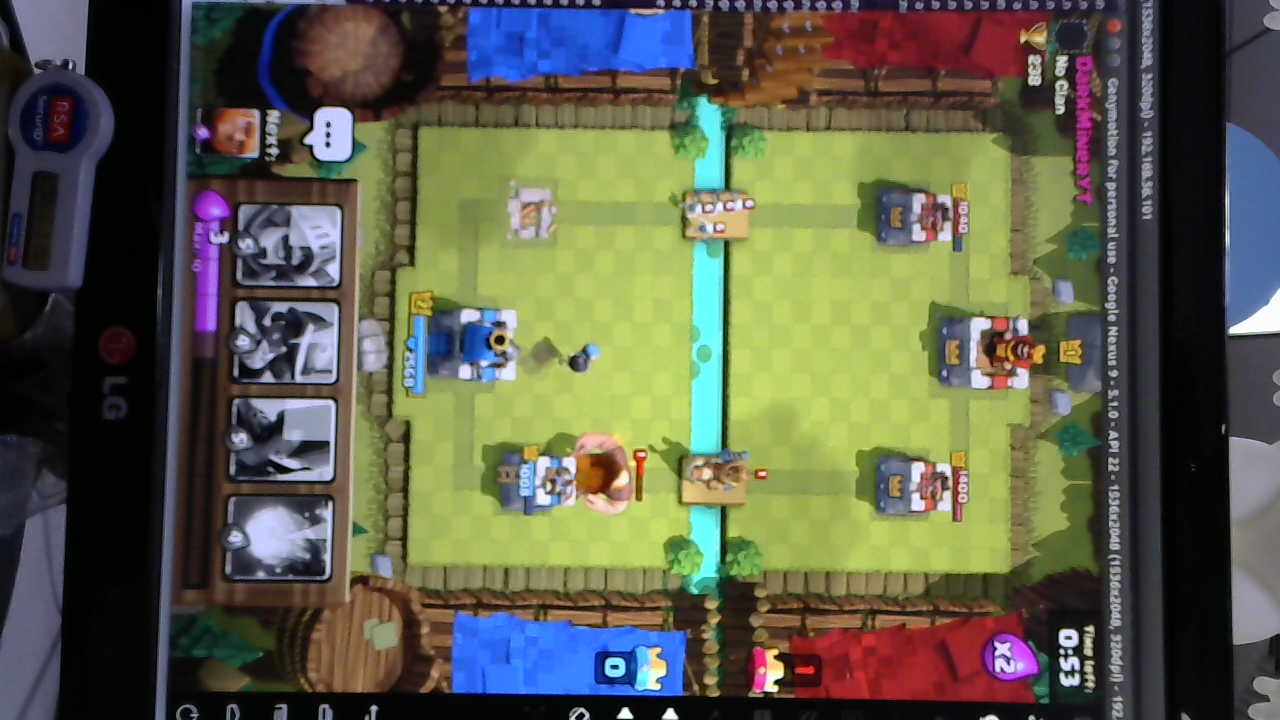arena: (503, 446, 578, 513)
bomb: (567, 339, 603, 375)
darena: (500, 183, 556, 252)
earena: (874, 453, 953, 521), (875, 186, 954, 250)
eking: (939, 310, 1037, 392)
giant: (570, 427, 637, 516)
king: (430, 302, 525, 382)
prince: (687, 444, 760, 496)
skeleton: (681, 192, 761, 236)
